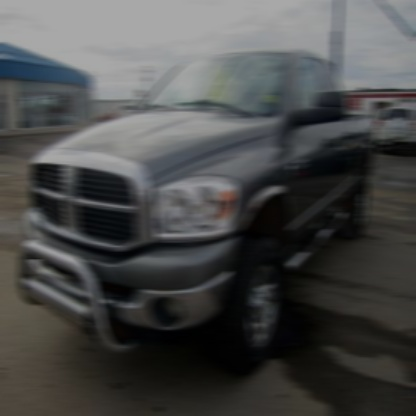Vehicle: (21, 47, 367, 371)
